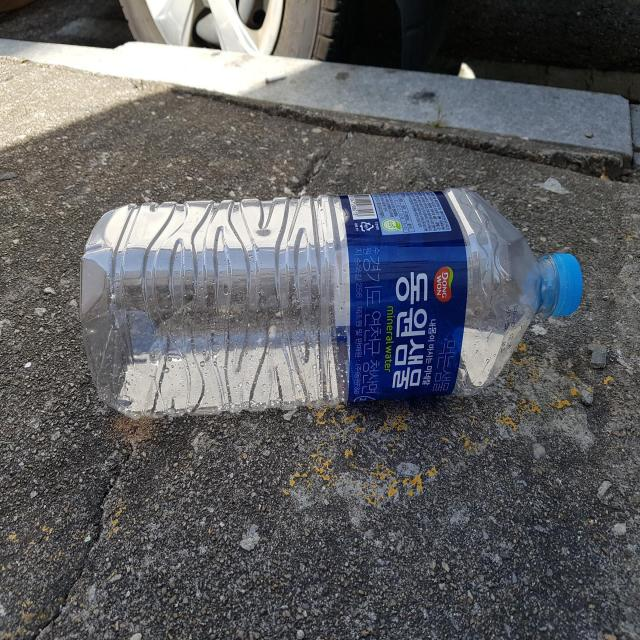plastic: (79, 188, 583, 418)
